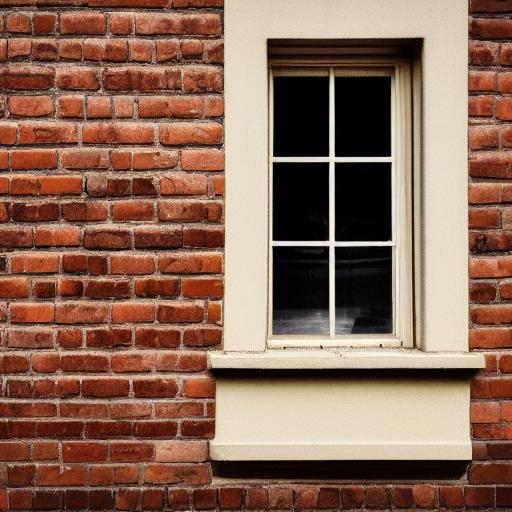Window: (202, 3, 493, 478)
